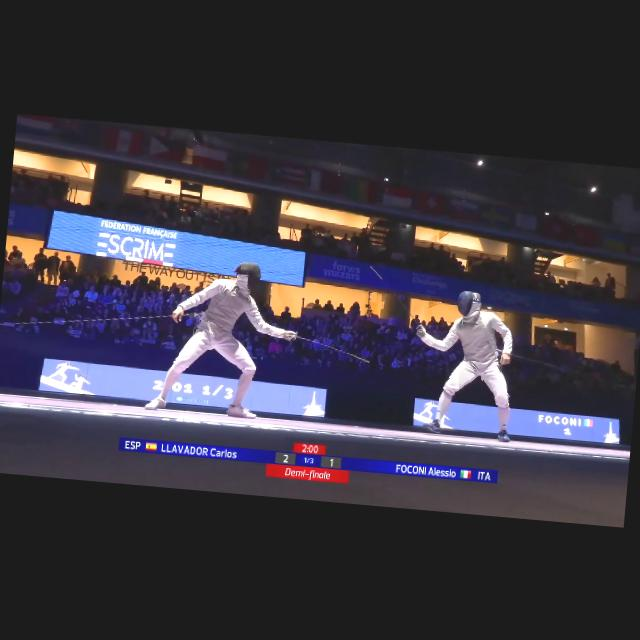blade: (362, 262, 433, 336), (284, 329, 376, 366)
